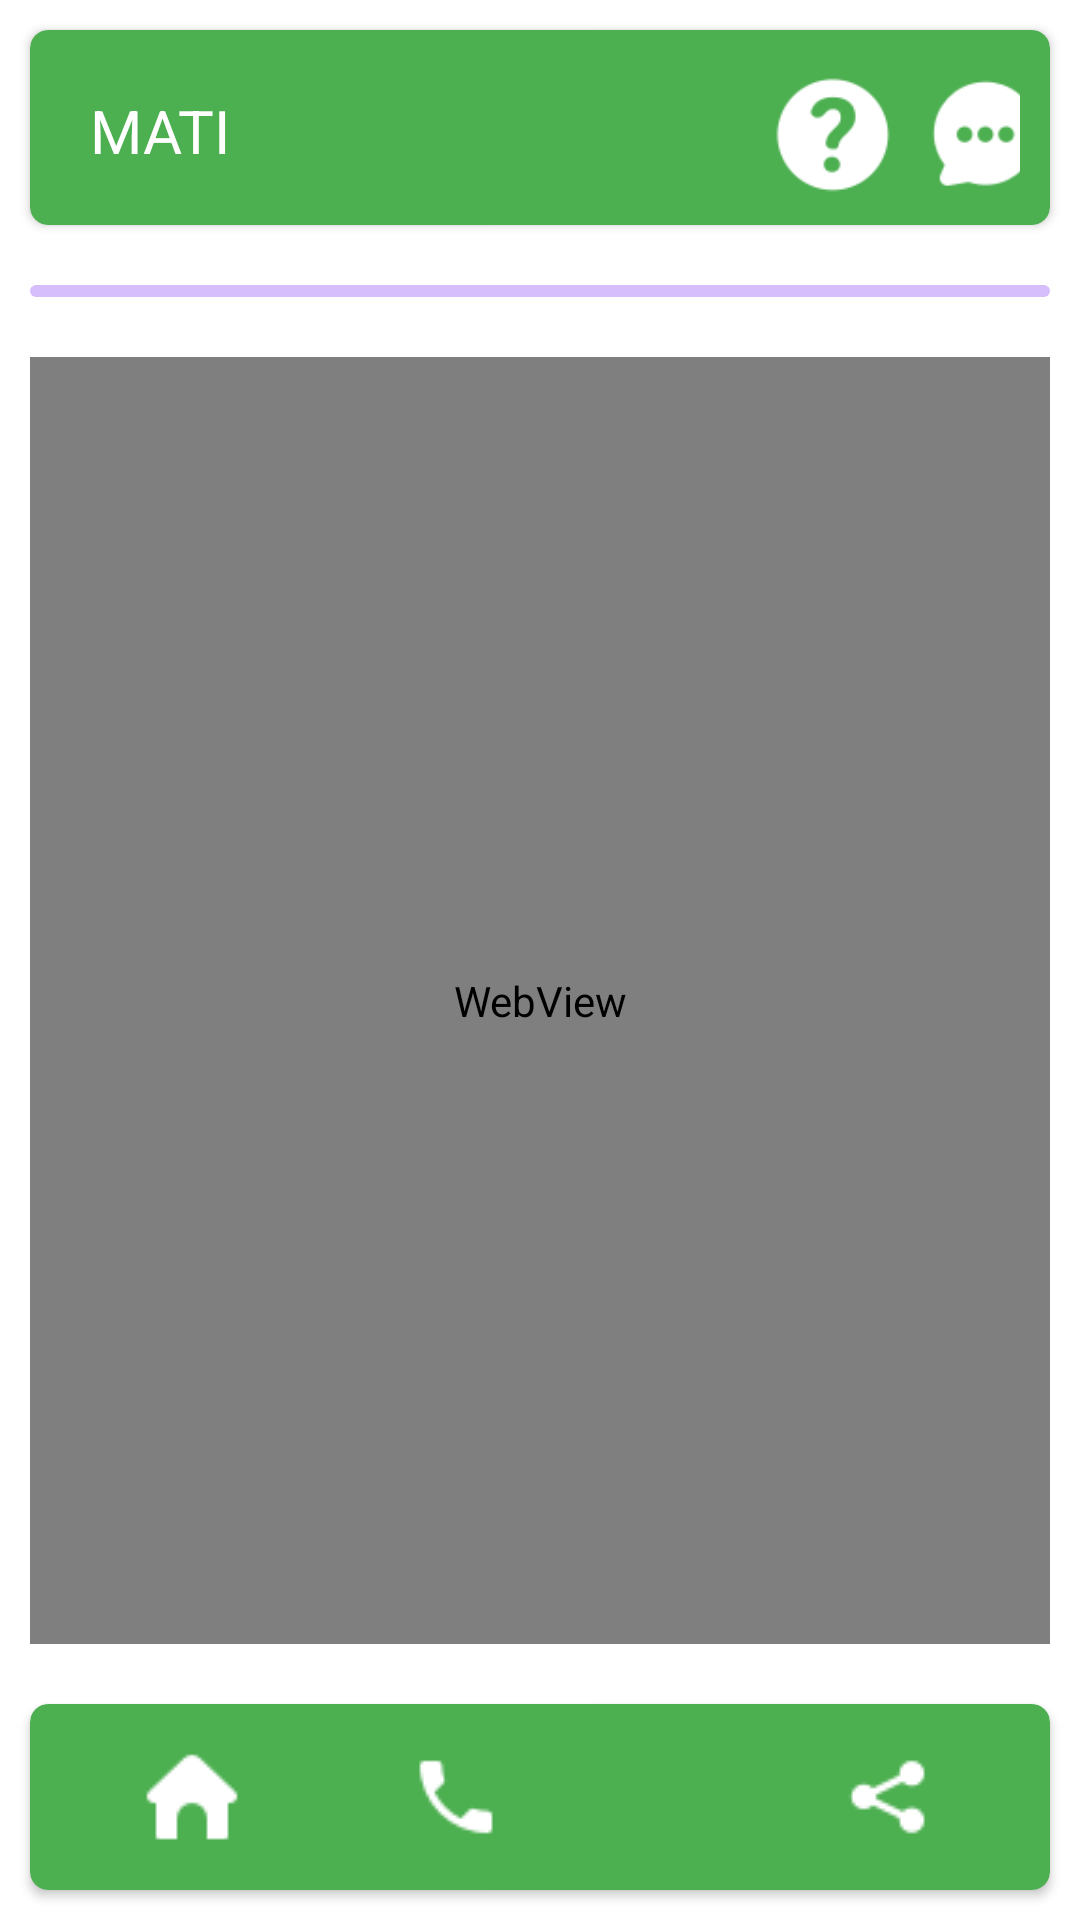

Screen size 1080px×1920px. Icon name, then its center in pixels as point (x, y):
calls: point (456, 1797)
homes: point (192, 1797)
shares: point (887, 1797)
